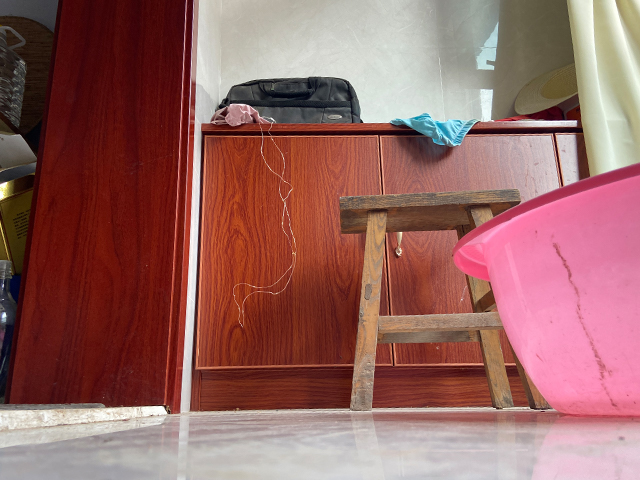cabinet: (190, 119, 590, 411)
stool: (338, 188, 553, 411)
